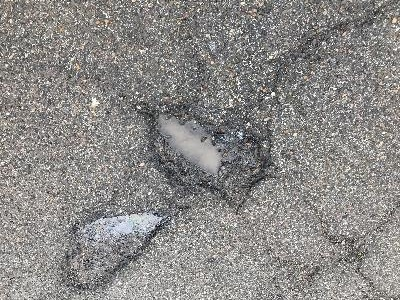pothole: (136, 100, 275, 215), (56, 209, 169, 294)
